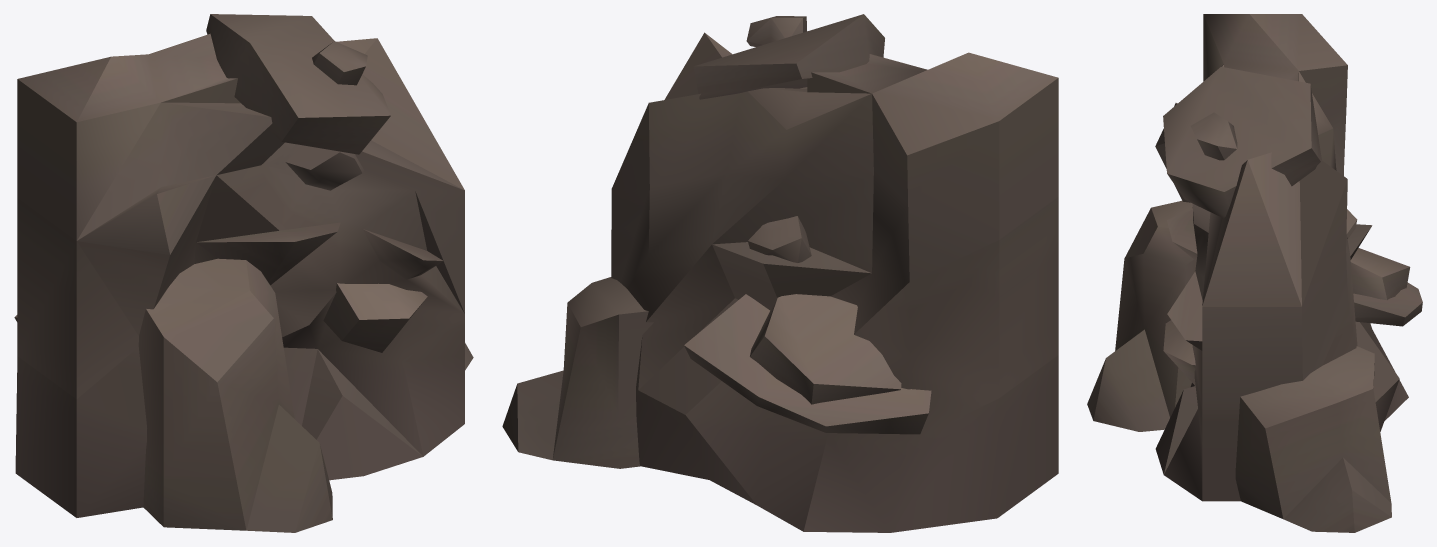
Rendered from rubble_half.glb.
3 renders of one model, left to right at view 1: azimuth 30°, elevation 25°; view 2: azimuth 150°, elevation 25°; view 3: azimuth 270°, elevation 25°, orthographic. The views are drawn at different scales.
Visible parts, largest first — view 1: rubble_half; view 2: rubble_half; view 3: rubble_half.
Boxes of the visible parts, x1=… form: rubble_half: x1=14, y1=14, x2=473, y2=532; rubble_half: x1=502, y1=14, x2=1058, y2=532; rubble_half: x1=1087, y1=14, x2=1422, y2=532.
Bounding box in the file's own units: 4 × 3.5 × 3.
1 material, 1 textured.
